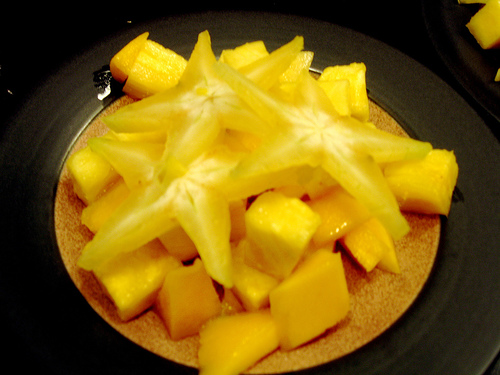pineapple: (64, 28, 456, 371)
